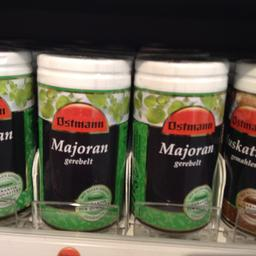spices: (130, 52, 228, 234), (34, 52, 129, 234)
